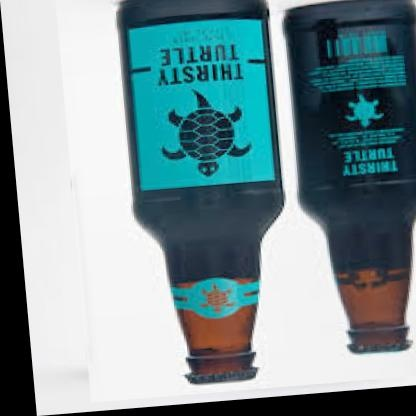trash: (119, 0, 282, 382), (286, 0, 415, 352)
